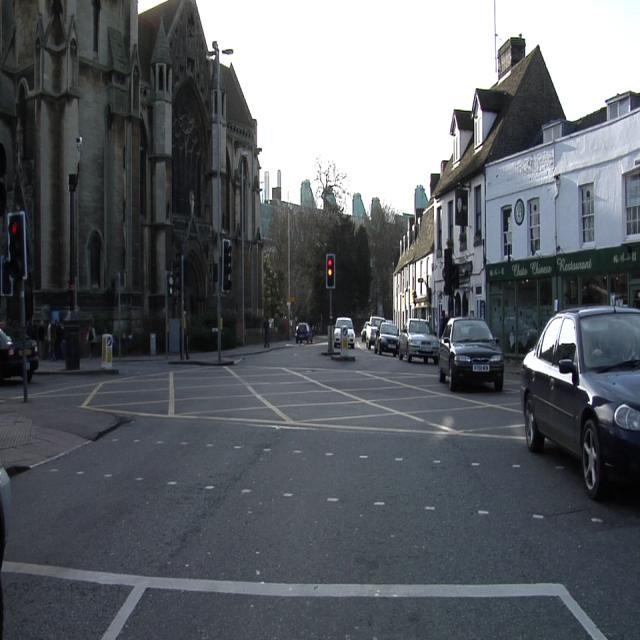Building: (2, 2, 262, 355), (390, 38, 563, 332), (487, 91, 639, 352), (263, 158, 392, 321)
Car: (522, 306, 639, 499), (439, 318, 503, 390), (400, 319, 437, 362), (1, 327, 22, 380), (0, 468, 9, 571), (376, 322, 398, 355), (26, 321, 38, 381), (333, 318, 355, 347), (363, 318, 380, 347), (295, 323, 312, 343)
Road: (2, 340, 639, 615)
Tree: (314, 154, 348, 218)
